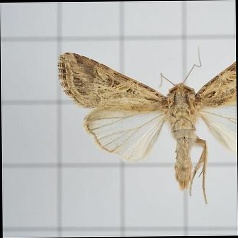Spodoptera litura: (57, 46, 237, 206)
